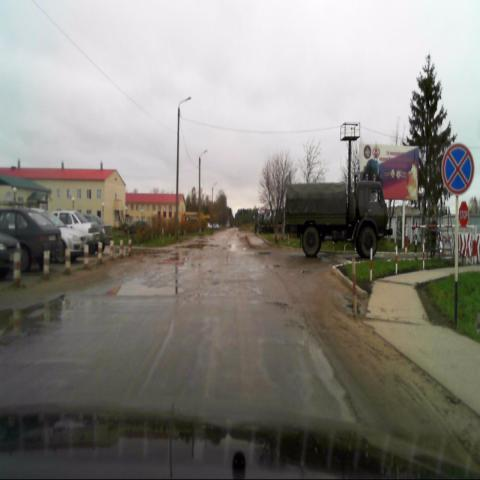3_27: (442, 141, 474, 195)
